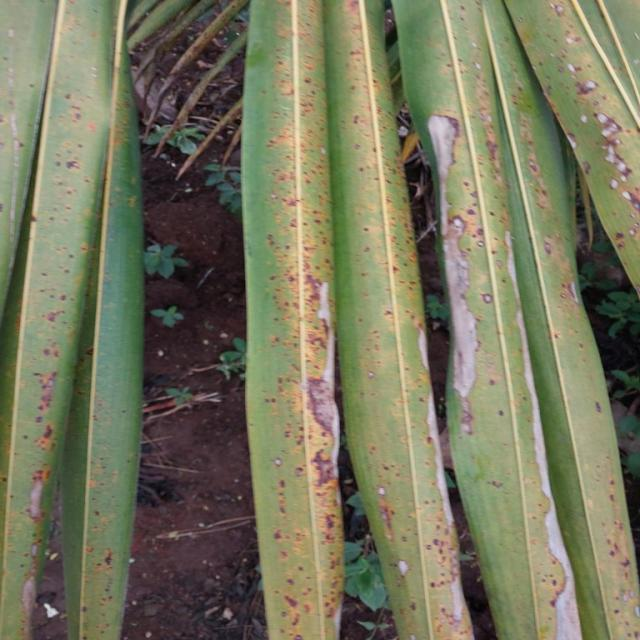gray leaf spot: (256, 52, 637, 640)
